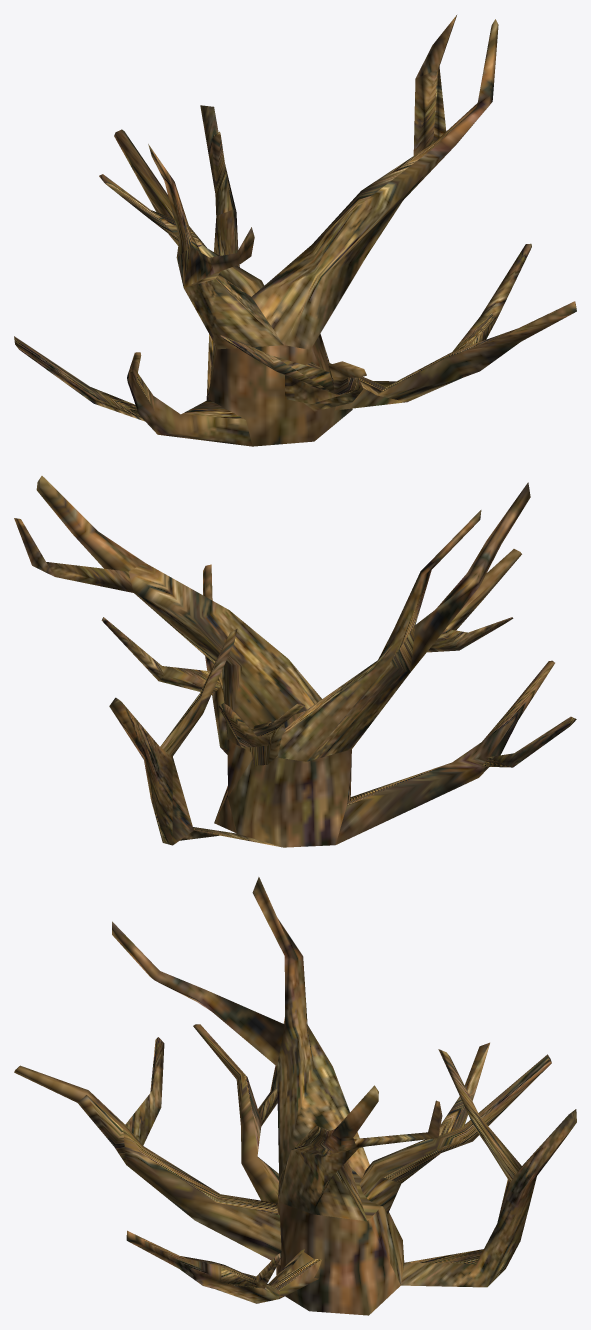
3 renders of one model, top to bottom at view 1: azimuth 30°, elevation 25°; view 2: azimuth 150°, elevation 25°; view 3: azimuth 270°, elevation 25°, orthographic. The views are drawn at different scales.
Visible parts, largest first — view 1: Object29; view 2: Object29; view 3: Object29.
Part boxes in pixels (x1,y1,x2,y2): Object29: (14,15,576,446); Object29: (14,476,576,847); Object29: (14,877,576,1315).
Bounding box in the file's own units: 431 × 271 × 415.
